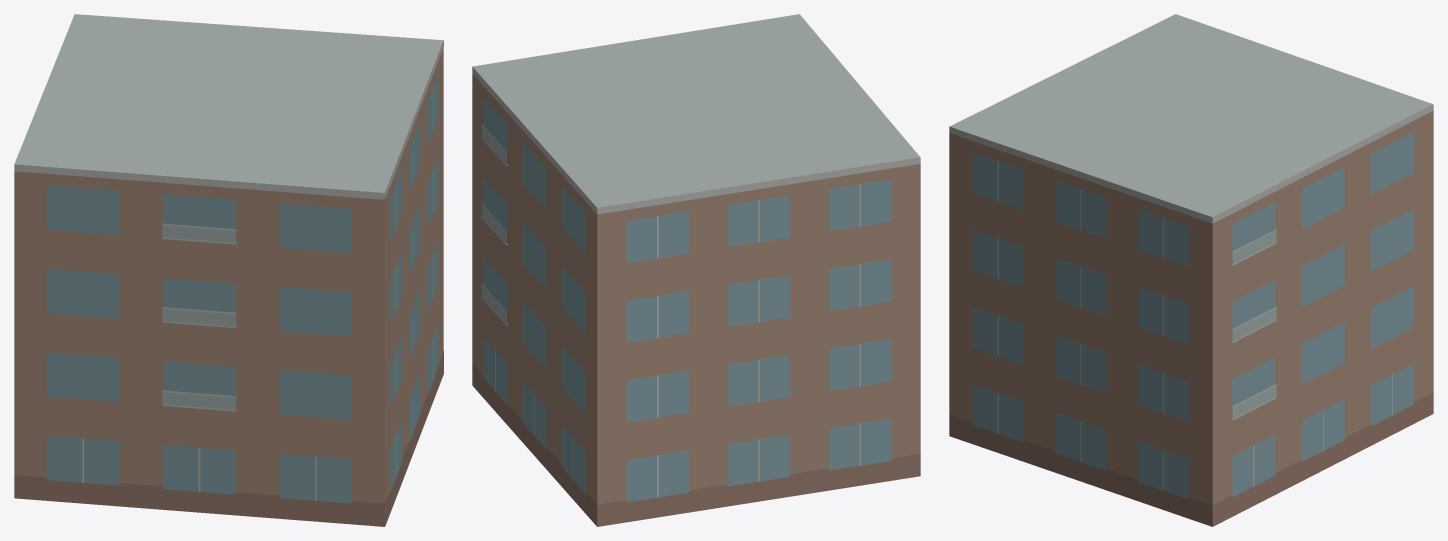
Rendered from survey-upis-32708709.glb.
3 renders of one model, left to right at view 1: azimuth 30°, elevation 25°; view 2: azimuth 150°, elevation 25°; view 3: azimuth 270°, elevation 25°, orthographic. The views are drawn at different scales.
Parts seen in each view (by area): view 1: survey-upis-32708709.tmp; view 2: survey-upis-32708709.tmp; view 3: survey-upis-32708709.tmp.
Part boxes in pixels (x1,y1,x2,y2): survey-upis-32708709.tmp: (14,14,443,526); survey-upis-32708709.tmp: (472,14,920,526); survey-upis-32708709.tmp: (949,14,1433,526).
Size of the model in its own units: 16.77 by 11.9 by 16.87.
